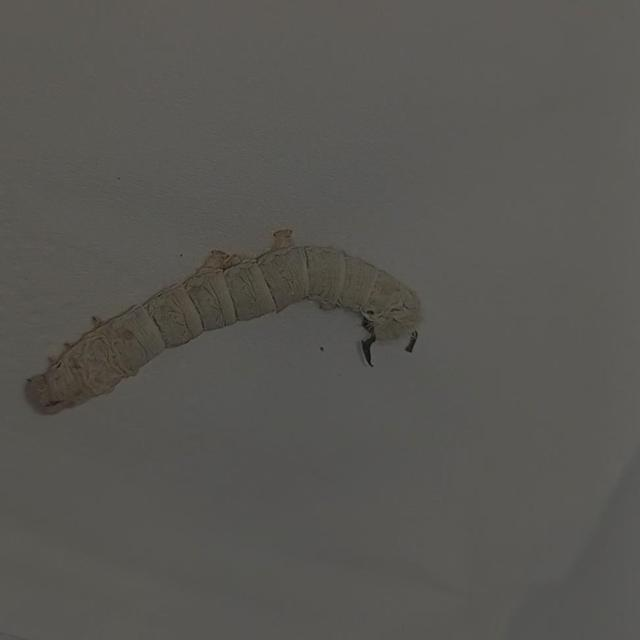Healthy: (19, 218, 438, 422)
